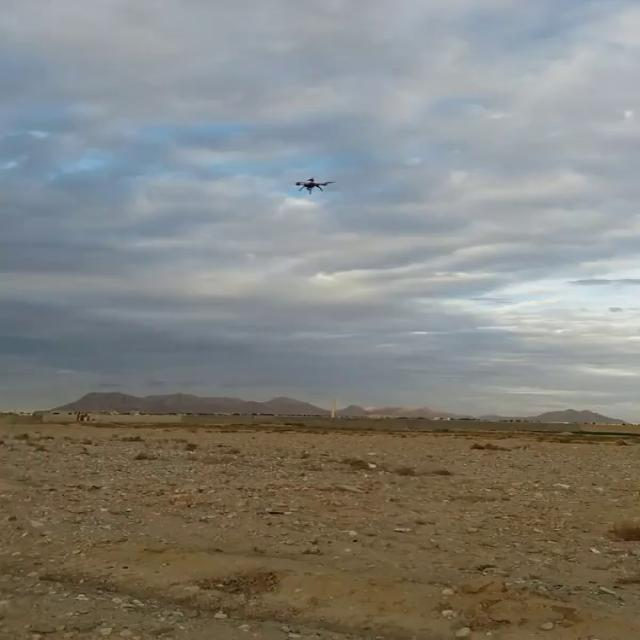drone: (287, 173, 335, 201)
